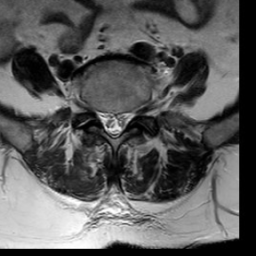CCS_normal: (108, 101, 118, 147)
LFS_normal: (128, 98, 138, 128)
LLS_normal: (118, 100, 128, 140)
RFS_stenosis: (88, 96, 97, 121)
RLS_normal: (97, 100, 108, 140)
